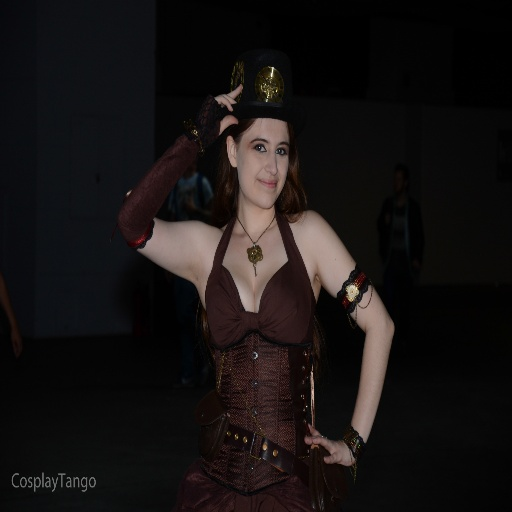hand: (198, 81, 243, 147), (300, 428, 353, 482)
